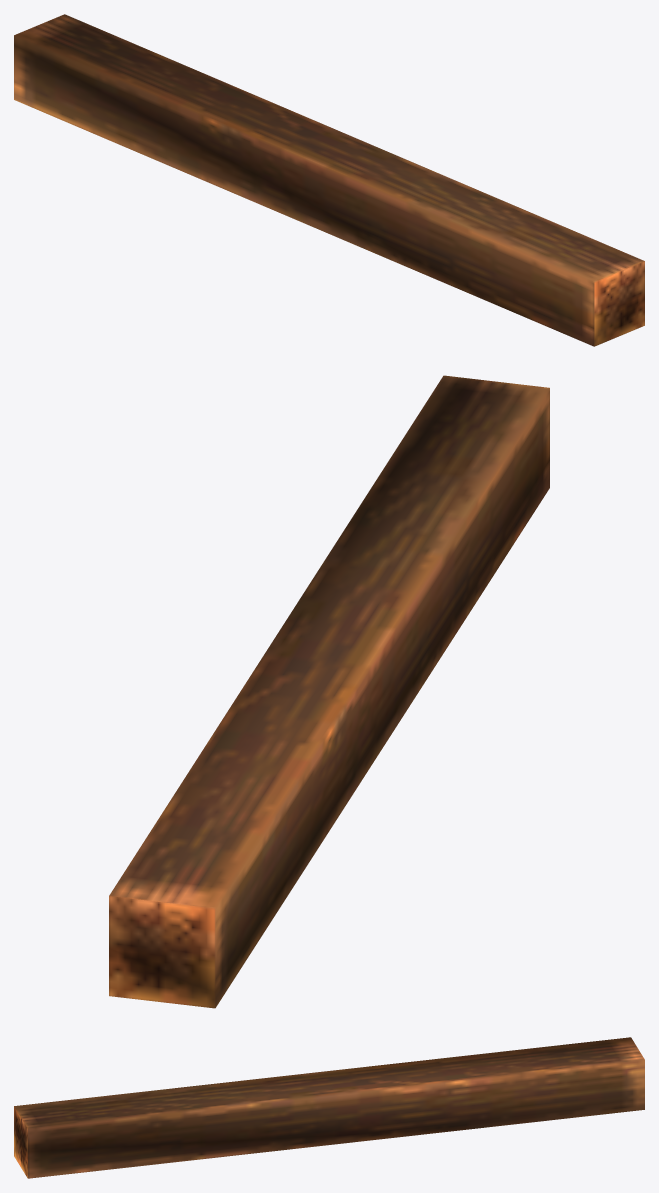
The model's file is SWORDLIGHT20_JAILBRACE133.fbx.
3 renders of one model, top to bottom at view 1: azimuth 30°, elevation 25°; view 2: azimuth 150°, elevation 25°; view 3: azimuth 270°, elevation 25°, orthographic. The views are drawn at different scales.
Parts seen in each view (by area): view 1: SWORDLIGHT20_JAILBRACE133; view 2: SWORDLIGHT20_JAILBRACE133; view 3: SWORDLIGHT20_JAILBRACE133.
Boxes of the visible parts, x1,y1,x2,y2 form: SWORDLIGHT20_JAILBRACE133: [14, 14, 644, 346]; SWORDLIGHT20_JAILBRACE133: [109, 375, 549, 1008]; SWORDLIGHT20_JAILBRACE133: [14, 1037, 644, 1178].
Bounding box in the file's own units: 15691 × 4000 × 45735.
1 material, 1 textured.
